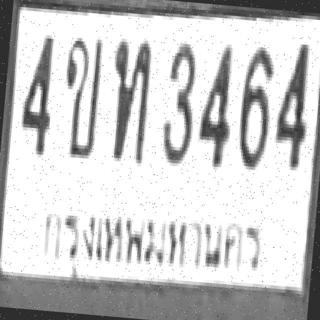A02: (57, 30, 103, 156)
A23: (104, 34, 152, 160)
N03: (158, 36, 198, 164)
N04: (195, 38, 236, 166), (16, 30, 56, 155), (272, 36, 310, 167)
N06: (234, 42, 275, 168)
P04: (34, 200, 268, 292)
